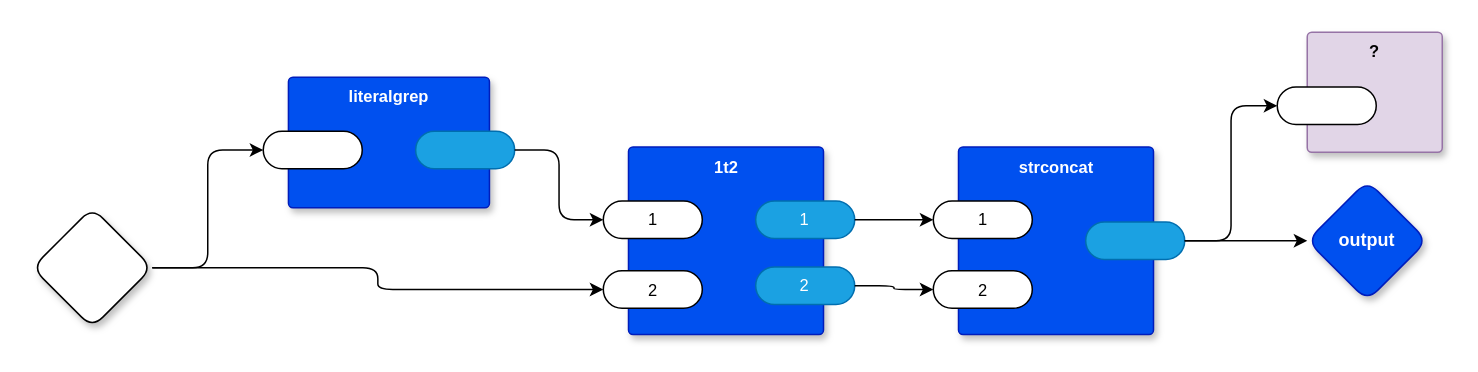
Image size: 1478x372. Some labels were removed from this diagram. Here are the shapes that lost their labels. From the top down, the centre of each, then its label:
At (1326,105): "in".
At (312,149): "go".
At (464,149): "literal".
At (1134,240): "str".
At (93,269): "arg".
